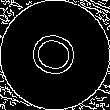O_E: (24, 26, 86, 84)
